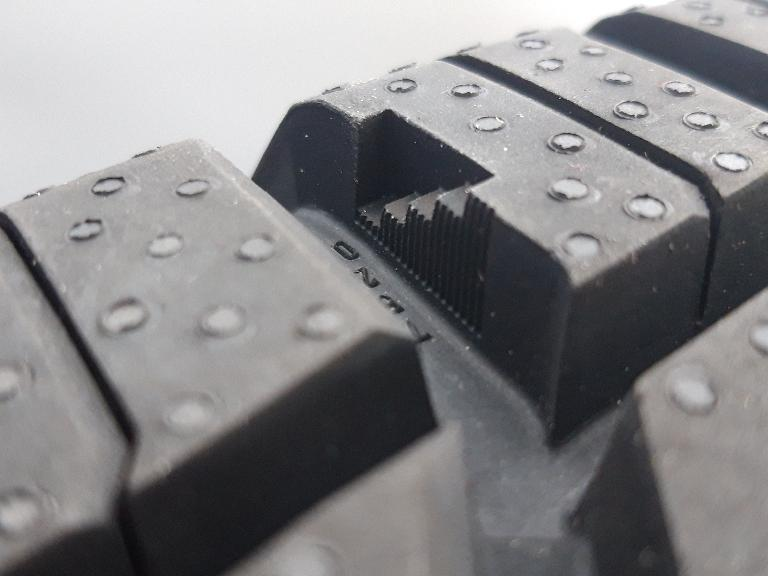temoin:100: (342, 102, 516, 351)
